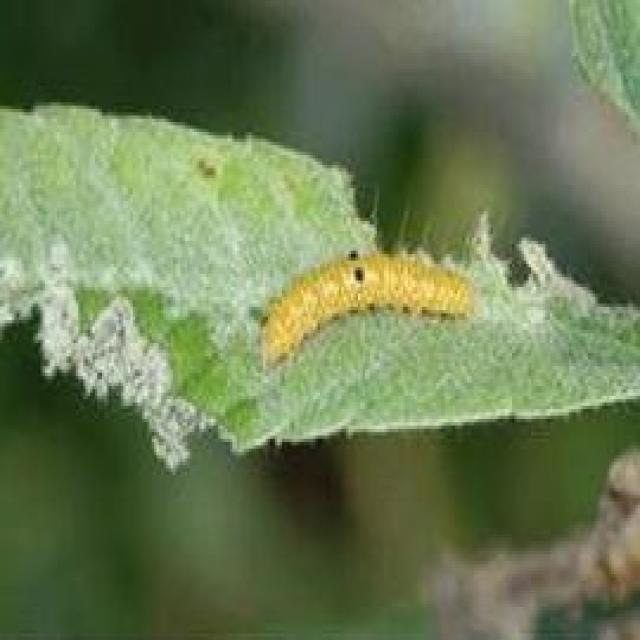peach borer: (252, 242, 480, 354)
